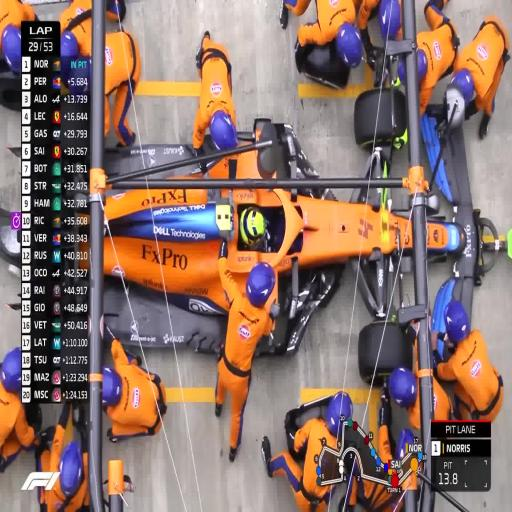f1_car: (103, 165, 412, 378), (239, 119, 317, 180), (105, 145, 193, 176), (205, 140, 268, 178), (428, 218, 468, 256), (1, 212, 19, 265), (366, 154, 385, 177), (379, 348, 400, 368), (77, 244, 88, 252), (387, 325, 394, 332), (11, 148, 19, 154), (75, 225, 80, 234), (77, 212, 84, 216), (398, 356, 403, 361), (83, 260, 87, 265), (74, 236, 79, 239), (474, 241, 476, 246), (77, 175, 79, 180), (471, 233, 474, 236), (77, 186, 80, 189), (406, 350, 408, 354), (268, 301, 272, 303), (433, 205, 435, 209), (397, 344, 400, 346), (390, 332, 392, 335), (405, 364, 409, 365), (74, 272, 76, 274), (70, 272, 73, 273), (73, 192, 76, 193), (269, 172, 272, 173), (68, 273, 70, 274), (401, 212, 403, 213), (471, 259, 472, 260), (434, 197, 435, 198), (400, 304, 402, 304), (406, 268, 406, 270)
